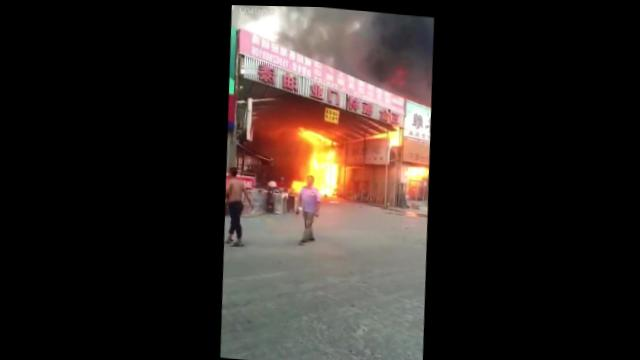fire: (310, 142, 338, 193), (404, 162, 429, 181), (299, 128, 332, 142), (288, 176, 306, 190), (387, 126, 400, 142)
